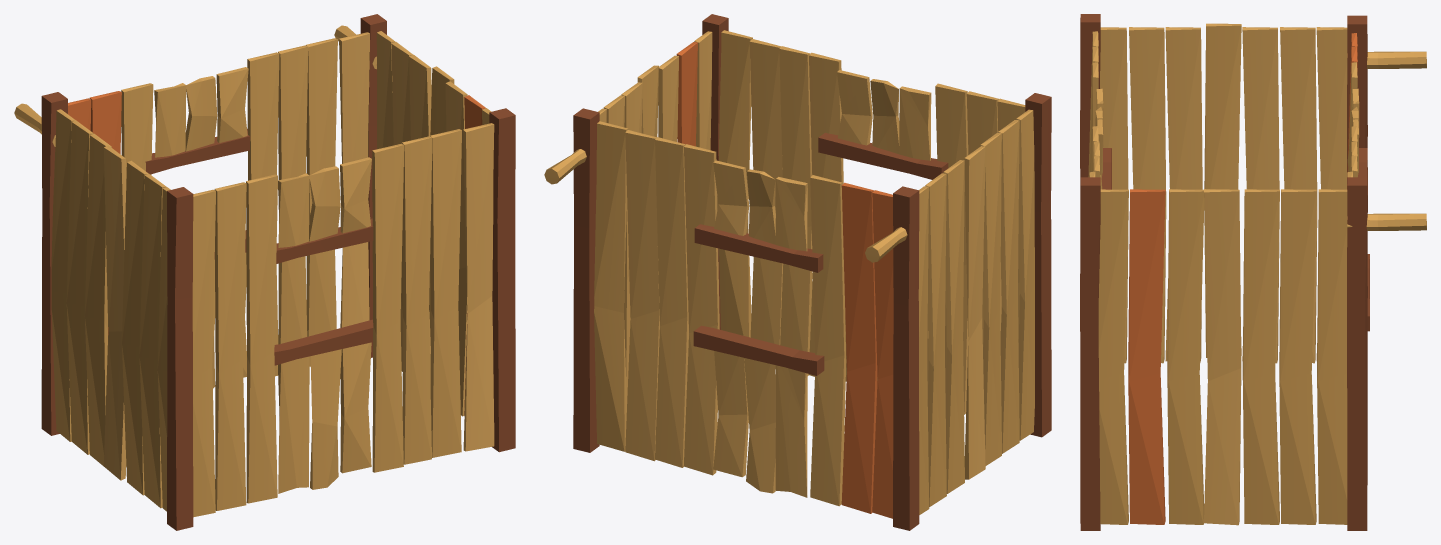
The model's file is Top house.fbx.
3 renders of one model, left to right at view 1: azimuth 30°, elevation 25°; view 2: azimuth 150°, elevation 25°; view 3: azimuth 270°, elevation 25°, orthographic. The views are drawn at different scales.
Parts seen in each view (by area): view 1: Top house; view 2: Top house; view 3: Top house.
Part boxes in pixels (x1,y1,x2,y2): Top house: (14,14,515,530); Top house: (544,14,1051,530); Top house: (1080,14,1426,530).
Bounding box in the file's own units: 271 × 254 × 231.
